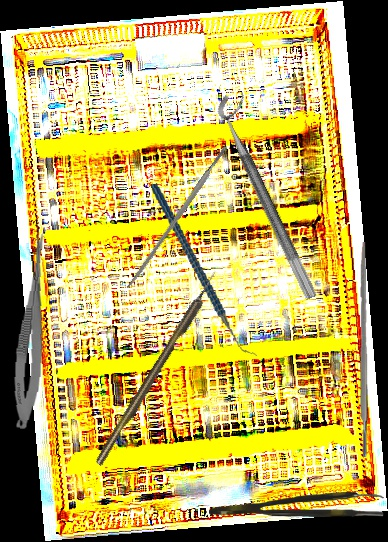Chopper: (150, 172, 258, 368)
Fixation Ring: (212, 88, 334, 301)
Hook Surgical: (92, 269, 223, 467)
Micro Scissor: (9, 224, 53, 430)
Scalpel Handle: (125, 144, 230, 291), (359, 242, 368, 457)
Tissue Forceps: (209, 492, 384, 517)
